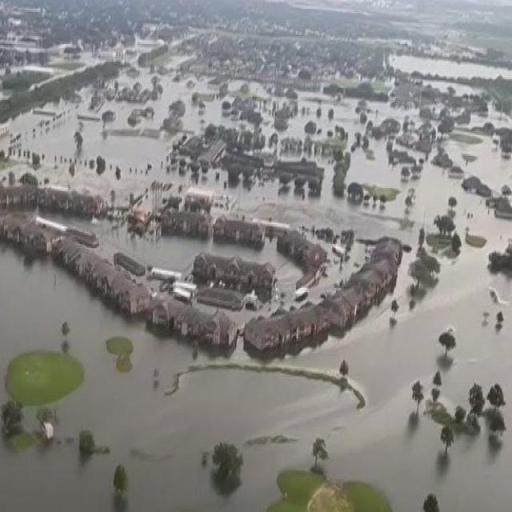flood: (0, 90, 512, 512), (0, 56, 250, 200), (55, 217, 302, 296), (442, 105, 512, 192), (312, 244, 366, 303), (394, 56, 512, 78), (249, 81, 288, 141), (369, 102, 423, 126), (118, 68, 152, 88), (431, 83, 482, 95), (224, 81, 246, 101)
house: (193, 252, 276, 304), (101, 256, 160, 322), (166, 303, 236, 346), (246, 314, 318, 351), (327, 284, 363, 327), (214, 214, 265, 244), (59, 236, 97, 274), (162, 206, 212, 234), (20, 222, 56, 251), (352, 269, 383, 298), (2, 184, 36, 206), (374, 238, 404, 262), (369, 257, 395, 284), (75, 194, 108, 215), (299, 242, 327, 266), (42, 187, 72, 209), (186, 186, 216, 204)
